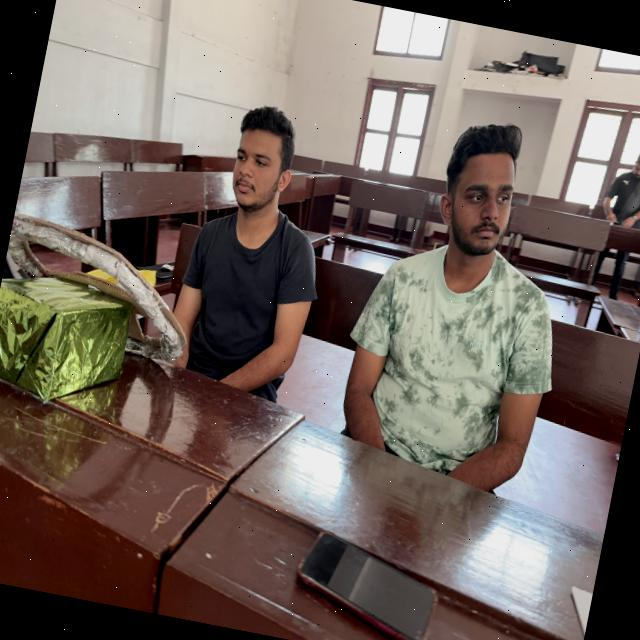no-seatbelt: (316, 236, 574, 534), (144, 194, 336, 422)
